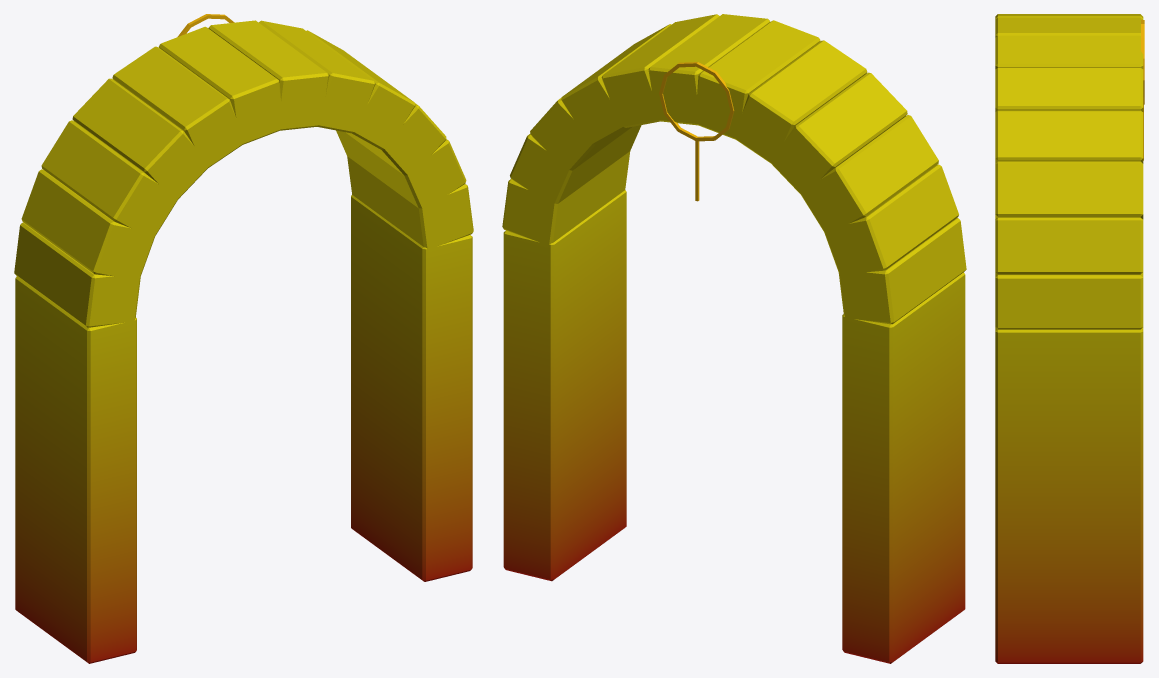
Rendered from temple_gate.glb.
3 renders of one model, left to right at view 1: azimuth 30°, elevation 25°; view 2: azimuth 150°, elevation 25°; view 3: azimuth 270°, elevation 25°, orthographic.
Visible parts, largest first — view 1: temple_gate; view 2: temple_gate; view 3: temple_gate.
Boxes of the visible parts, x1=… form: temple_gate: x1=14, y1=14, x2=473, y2=663; temple_gate: x1=502, y1=14, x2=966, y2=663; temple_gate: x1=995, y1=14, x2=1144, y2=663.
Size of what is drawn, in the model's own units: 6.04 by 8.18 by 2.02.
